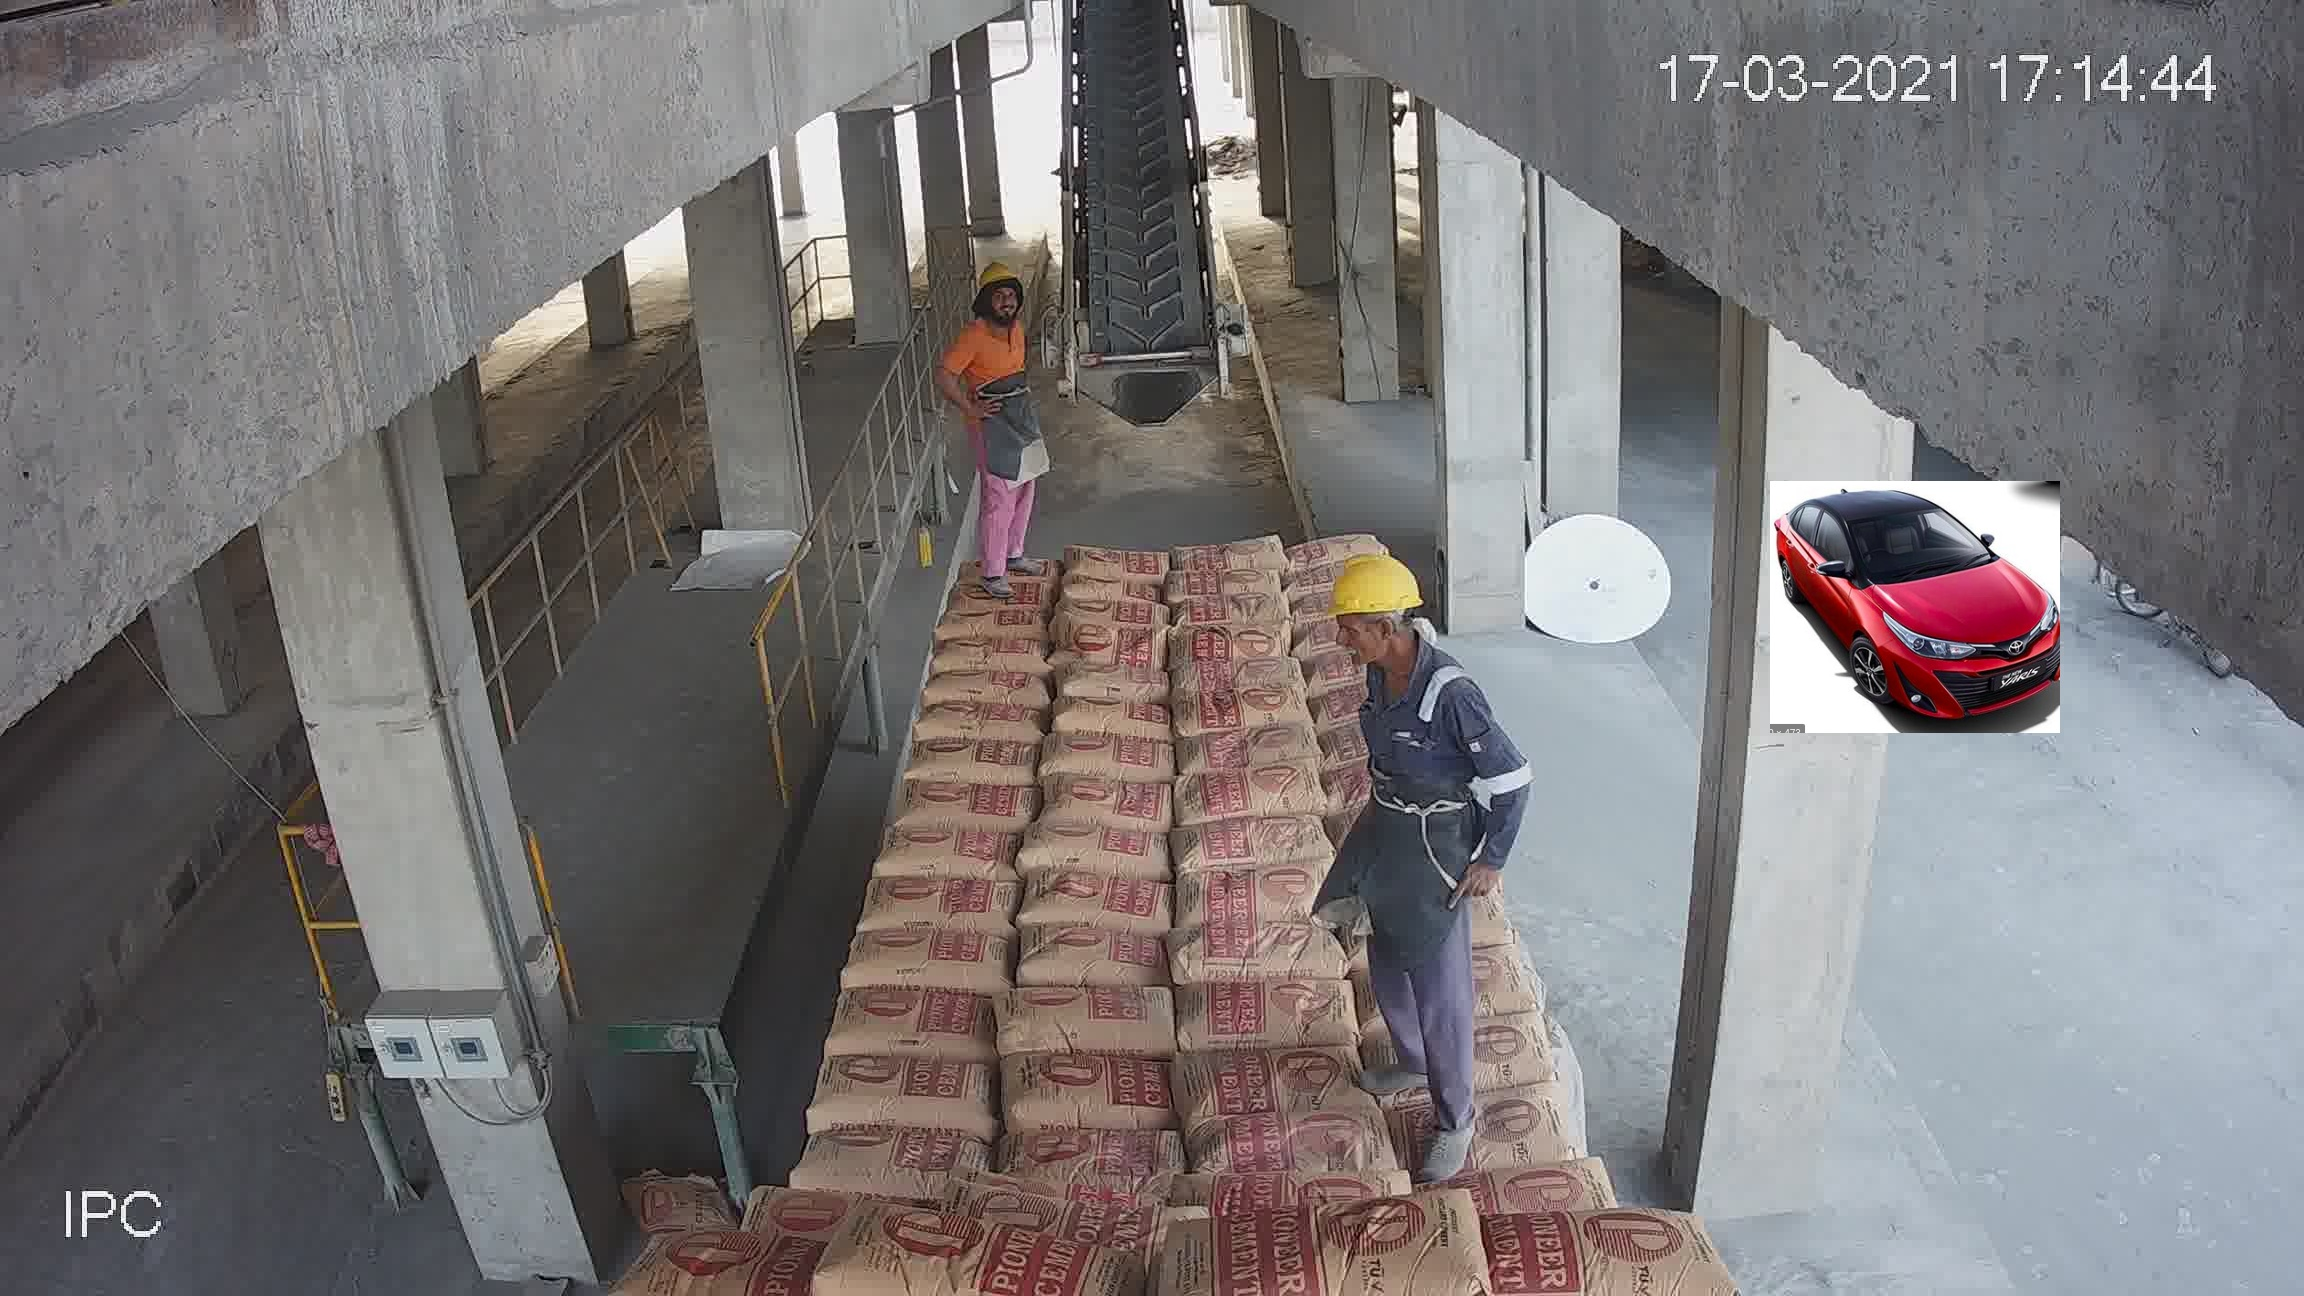bag_h: (1188, 1199, 1518, 1296), (798, 1214, 1128, 1294), (1475, 1212, 1734, 1294), (1188, 1073, 1408, 1169), (1171, 973, 1374, 1052), (807, 1055, 1006, 1135), (1006, 1049, 1188, 1130), (631, 1226, 840, 1294), (999, 984, 1185, 1060), (828, 980, 1003, 1059), (1188, 1103, 1369, 1179), (1408, 1097, 1586, 1173), (786, 1128, 999, 1192), (858, 873, 1024, 945), (837, 927, 1013, 994), (1002, 1122, 1184, 1185), (1179, 926, 1348, 989), (1445, 1163, 1616, 1225), (1176, 862, 1328, 930), (1024, 815, 1166, 885), (1177, 809, 1324, 873), (1017, 930, 1177, 989), (1184, 758, 1328, 823), (1025, 875, 1184, 934), (1046, 774, 1185, 836), (892, 782, 1041, 837), (872, 829, 1019, 881), (1176, 725, 1321, 775), (910, 698, 1059, 747), (1165, 654, 1309, 704), (907, 736, 1041, 790), (1063, 611, 1168, 673), (1179, 687, 1315, 733), (911, 665, 1048, 709), (1049, 741, 1177, 786), (1060, 657, 1176, 707), (1169, 619, 1294, 663), (926, 636, 1062, 676), (934, 606, 1052, 647), (1168, 525, 1293, 563), (1052, 699, 1158, 744), (951, 579, 1059, 622), (1169, 590, 1293, 627), (1067, 540, 1171, 582), (1169, 565, 1287, 601), (1059, 598, 1176, 633), (1287, 533, 1388, 571), (1052, 573, 1165, 606)
belt: (1060, 14, 1212, 415)
